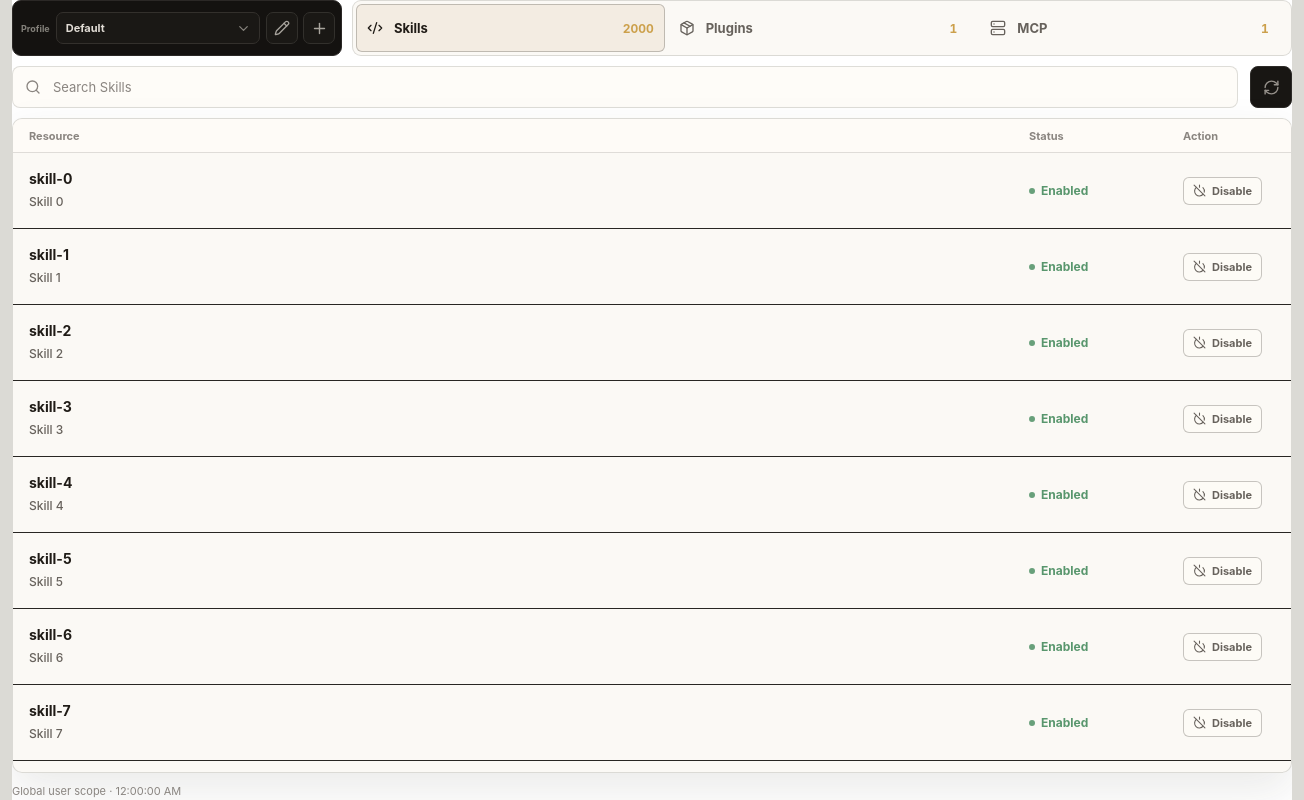
Test: Unified Claude Profiles page › applies a selected profile immediately and confirms the switch with a toast
This screenshot has width=1304, height=800.
Click the button with aria-label "Profile: Default". click: point(158, 28)
box: x1=56 y1=12 x2=260 y2=44
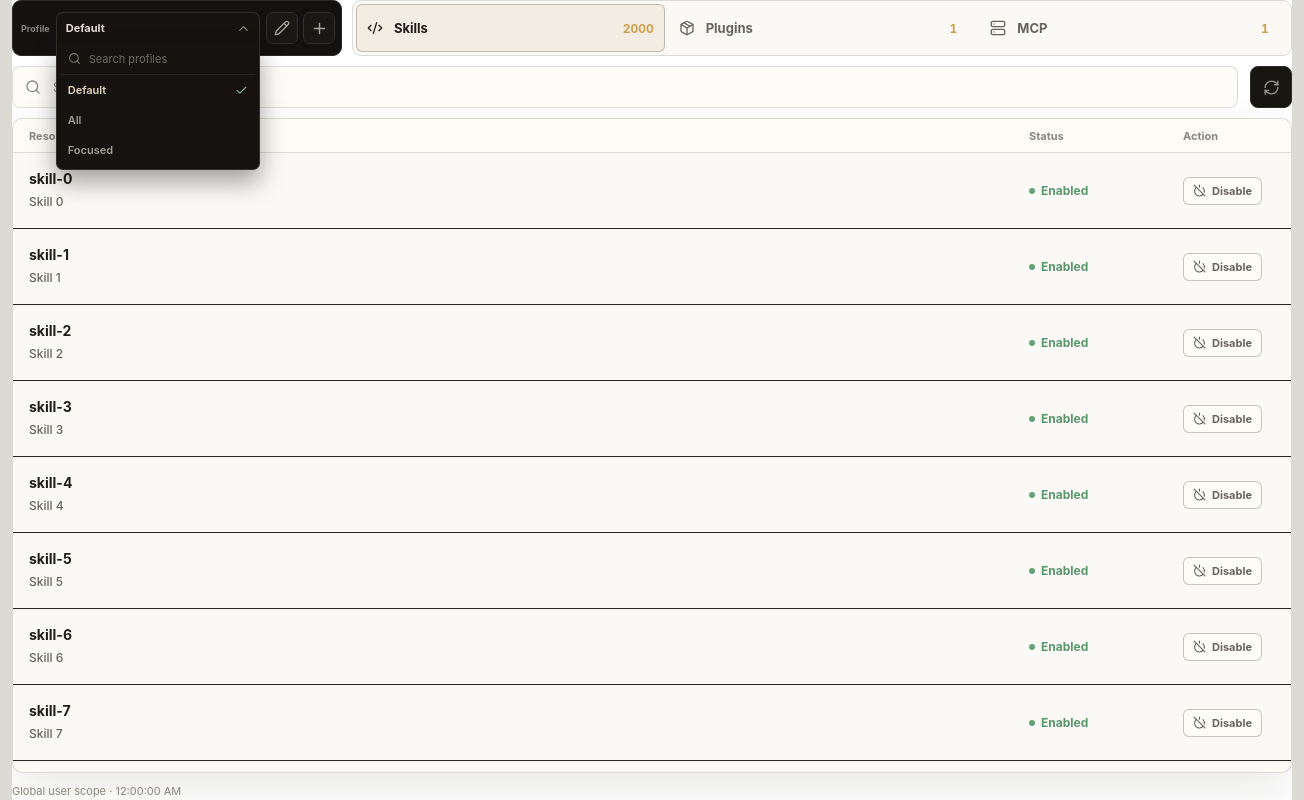
Click the option "Focused". click: point(158, 150)
box: x1=61 y1=135 x2=255 y2=165
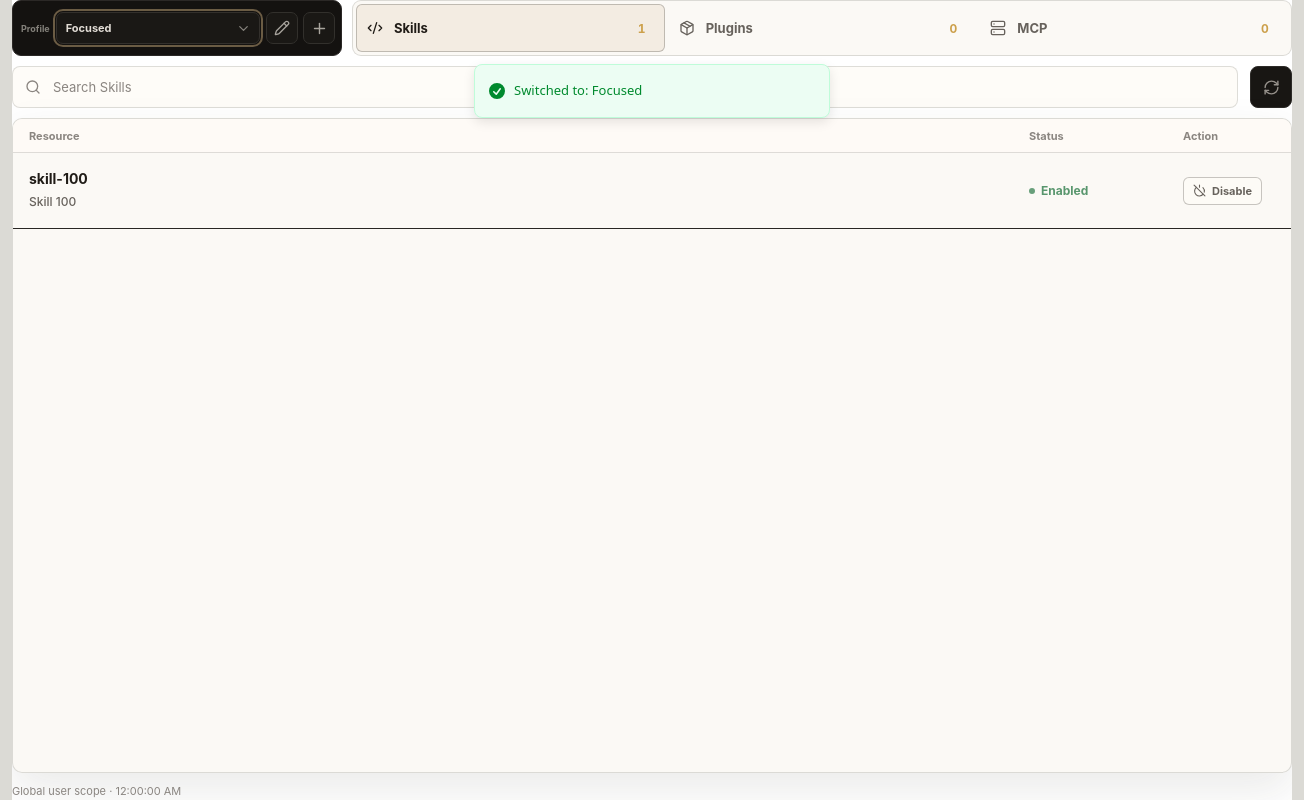
Check: the text "Switched to: Focused" is shown, box x1=514 y1=81 x2=642 y2=100
Check: the button with aria-label "Profile: Focused" is shown, box x1=56 y1=12 x2=260 y2=44
Check: the button "Skills 1" is shown, box x1=356 y1=4 x2=665 y2=52
